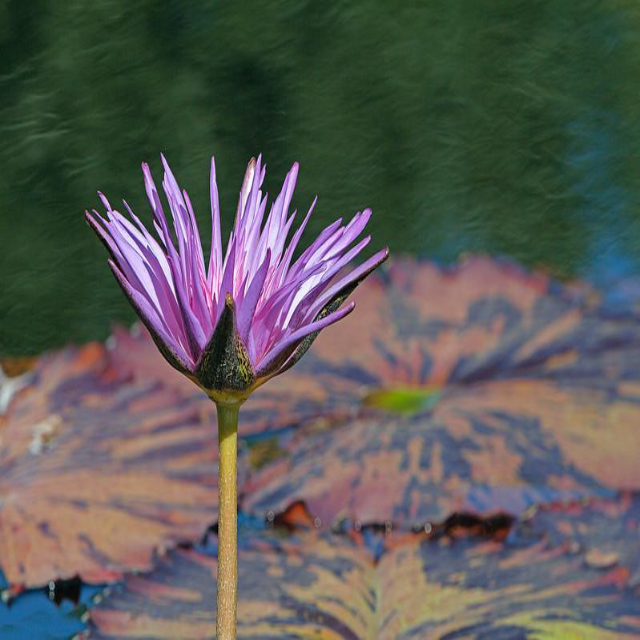water_lily: (76, 149, 389, 424)
